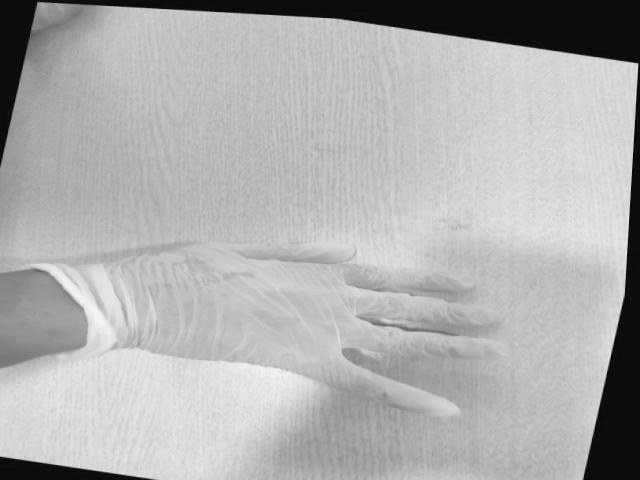gloved: (130, 240, 500, 419)
